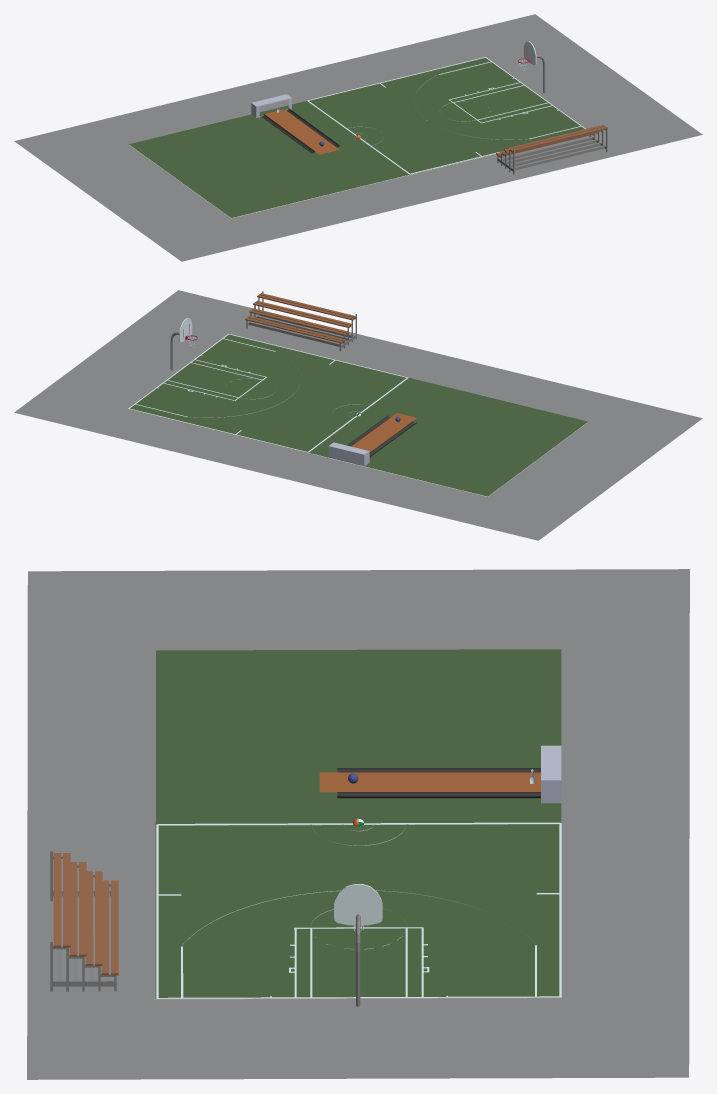
The model's file is ArcadeCourt.glb.
3 views of the same model, one above another, from view 1: azimuth 30°, elevation 25°; view 2: azimuth 150°, elevation 25°; view 3: azimuth 270°, elevation 25° (orthographic). The views are drawn at different scales.
Parts seen in each view (by area): view 1: ground, seat, line, bowlingAlley, stands; view 2: ground, seat, line, bowlingAlley, bowlingChecker, stands; view 3: ground, seat, bowlingAlley, line, stands, bowlingChecker.
Part boxes in pixels (left/top/right/bottom): ground: left=14, top=14, right=702, bottom=261; seat: left=496, top=125, right=607, bottom=174; line: left=307, top=57, right=585, bottom=174; bowlingAlley: left=260, top=108, right=339, bottom=154; stands: left=518, top=41, right=545, bottom=93; ground: left=14, top=290, right=702, bottom=540; seat: left=245, top=291, right=356, bottom=351; line: left=128, top=333, right=408, bottom=452; bowlingAlley: left=347, top=413, right=416, bottom=456; bowlingChecker: left=328, top=442, right=369, bottom=466; stands: left=170, top=318, right=197, bottom=370; ground: left=27, top=569, right=689, bottom=1079; seat: left=50, top=850, right=118, bottom=991; bowlingAlley: left=319, top=768, right=540, bottom=798; line: left=156, top=822, right=561, bottom=999; stands: left=334, top=884, right=382, bottom=1006; bowlingChecker: left=541, top=745, right=561, bottom=803.
Bounding box in the file's own units: 47.38 × 5.63 × 25.98.
